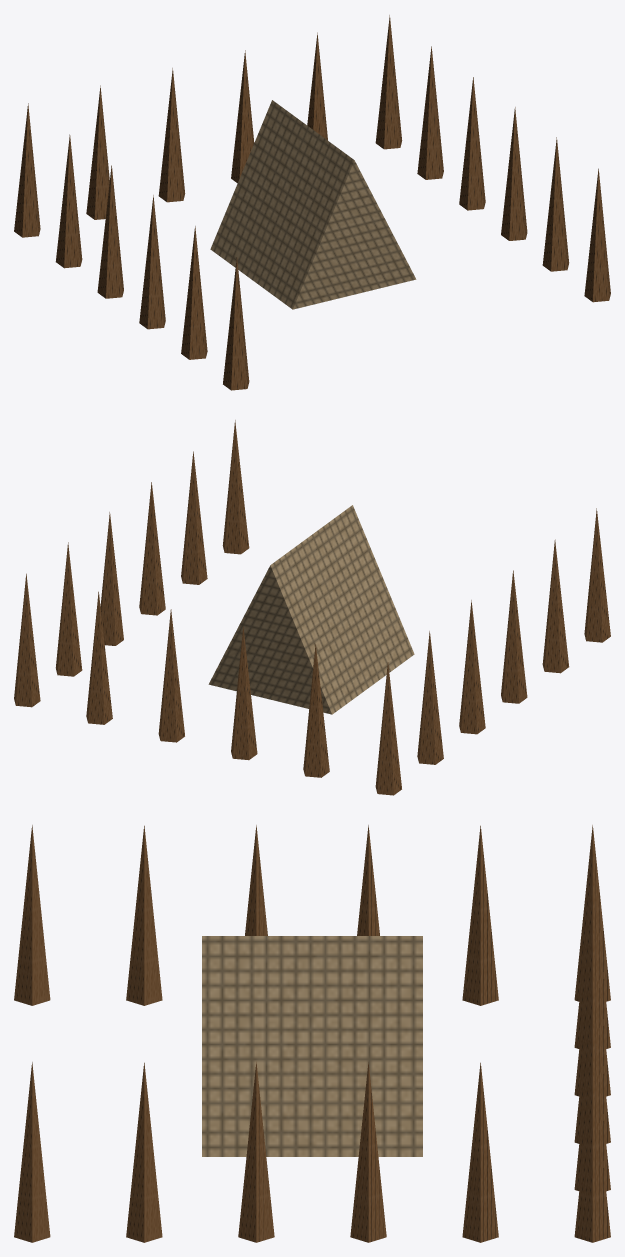
Rendered from military-CAMP-1-lod2.glb.
3 renders of one model, top to bottom at view 1: azimuth 30°, elevation 25°; view 2: azimuth 150°, elevation 25°; view 3: azimuth 270°, elevation 25°, orthographic. The views are drawn at different scales.
Bounding box in the file's own units: 0.807 × 0.27 × 0.8095.
1 material, 1 textured.
